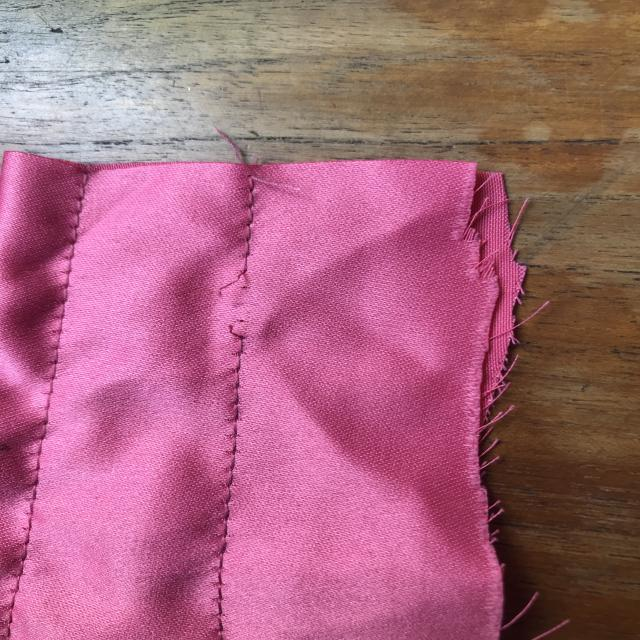broken: (206, 251, 282, 354)
